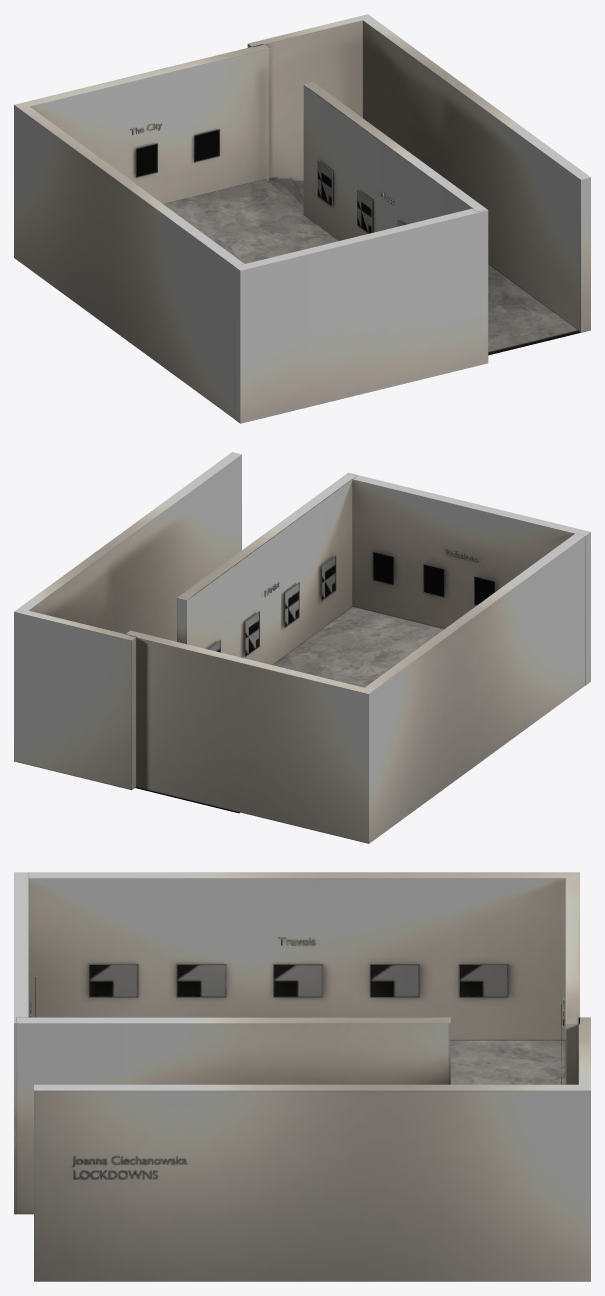
File: lockdowns_interior.glb
3 views of the same model, one above another, from view 1: azimuth 30°, elevation 25°; view 2: azimuth 150°, elevation 25°; view 3: azimuth 270°, elevation 25° (orthographic). The views are drawn at different scales.
Visible parts, largest first — view 1: Walllockdowns, FloorLockdowns; view 2: Walllockdowns, FloorLockdowns; view 3: Walllockdowns, FloorLockdowns.
Part boxes in pixels (bbox=[...]): Walllockdowns: bbox=[14, 14, 590, 423]; FloorLockdowns: bbox=[163, 177, 580, 355]; Walllockdowns: bbox=[14, 452, 590, 843]; FloorLockdowns: bbox=[135, 606, 444, 813]; Walllockdowns: bbox=[14, 872, 590, 1281]; FloorLockdowns: bbox=[450, 1040, 565, 1084].
Size of what is drawn, in the model's own units: 4.39 by 1.8 by 4.88.
2 materials, 2 textured.
